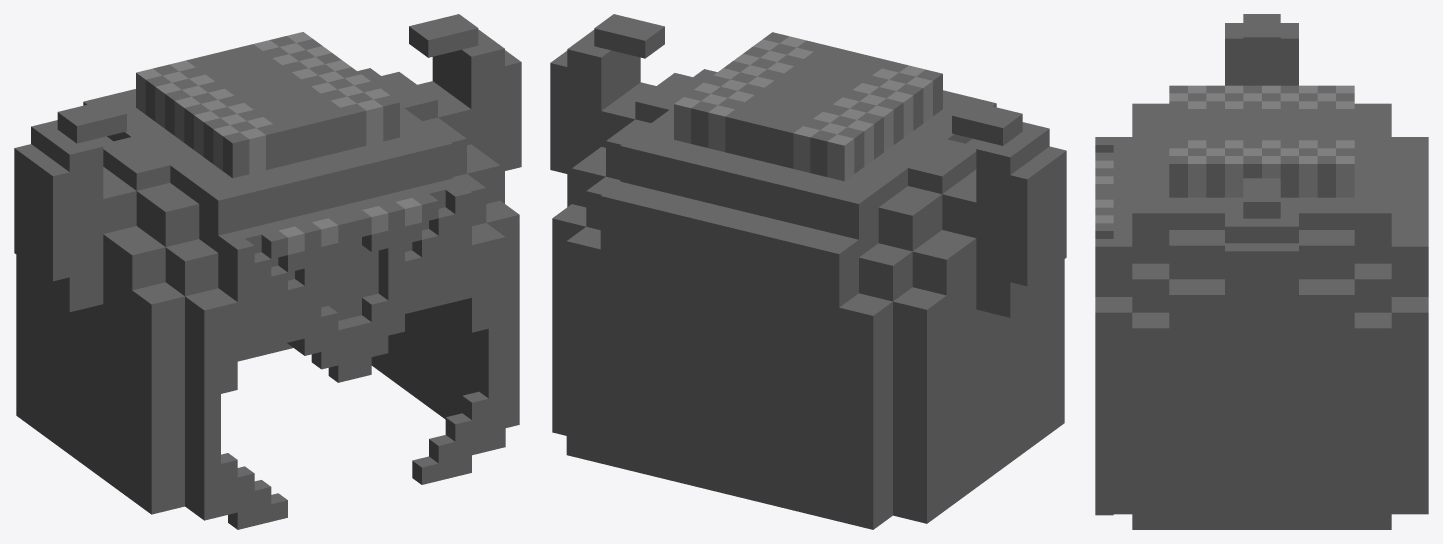
The picture shows the model from 3 angles, left to right: view 1: azimuth 30°, elevation 25°; view 2: azimuth 150°, elevation 25°; view 3: azimuth 270°, elevation 25°; orthographic projection. The views are drawn at different scales.
Visible parts, largest first — view 1: 104; view 2: 104; view 3: 104.
Boxes of the visible parts, x1,y1,x2,y2 form: 104: [14, 14, 521, 529]; 104: [550, 14, 1066, 529]; 104: [1095, 14, 1428, 529].
Bounding box in the file's own units: 280 × 210 × 180.
Materials: 1 (1 with a texture image).
